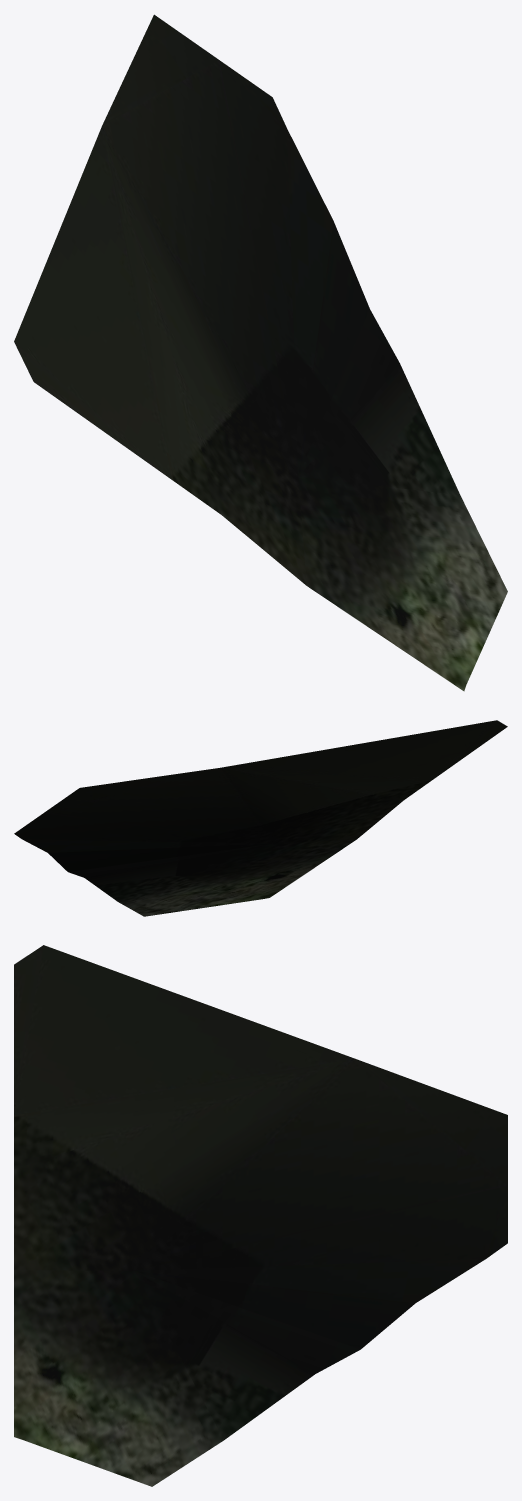
3 renders of one model, top to bottom at view 1: azimuth 30°, elevation 25°; view 2: azimuth 150°, elevation 25°; view 3: azimuth 270°, elevation 25°, orthographic. The views are drawn at different scales.
Size of the model in its own units: 5.9 by 4.39 by 5.9.
Materials: 3 (3 with a texture image).
